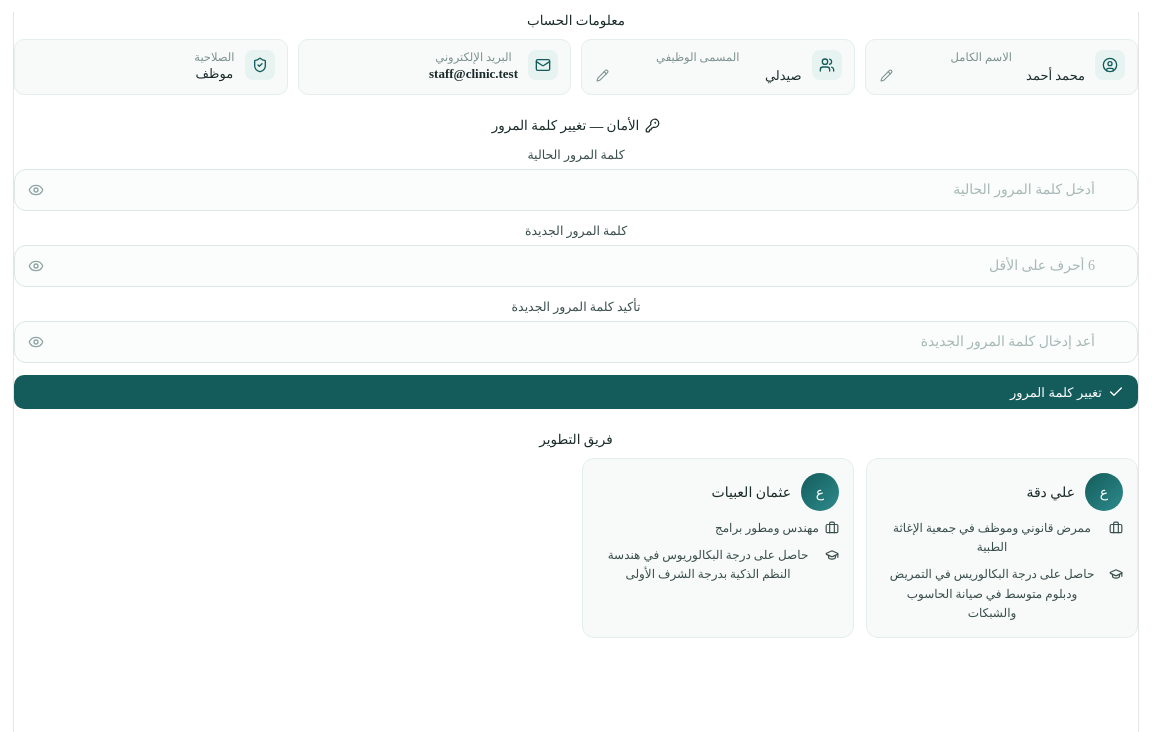
Scenario: ProfilePage — full name: edit affordance and independent edit state › saves the updated name and shows success feedback
Step 1. Click the button named "تعديل الاسم الكامل" → coordinates (886, 75), box [878, 66, 894, 84]
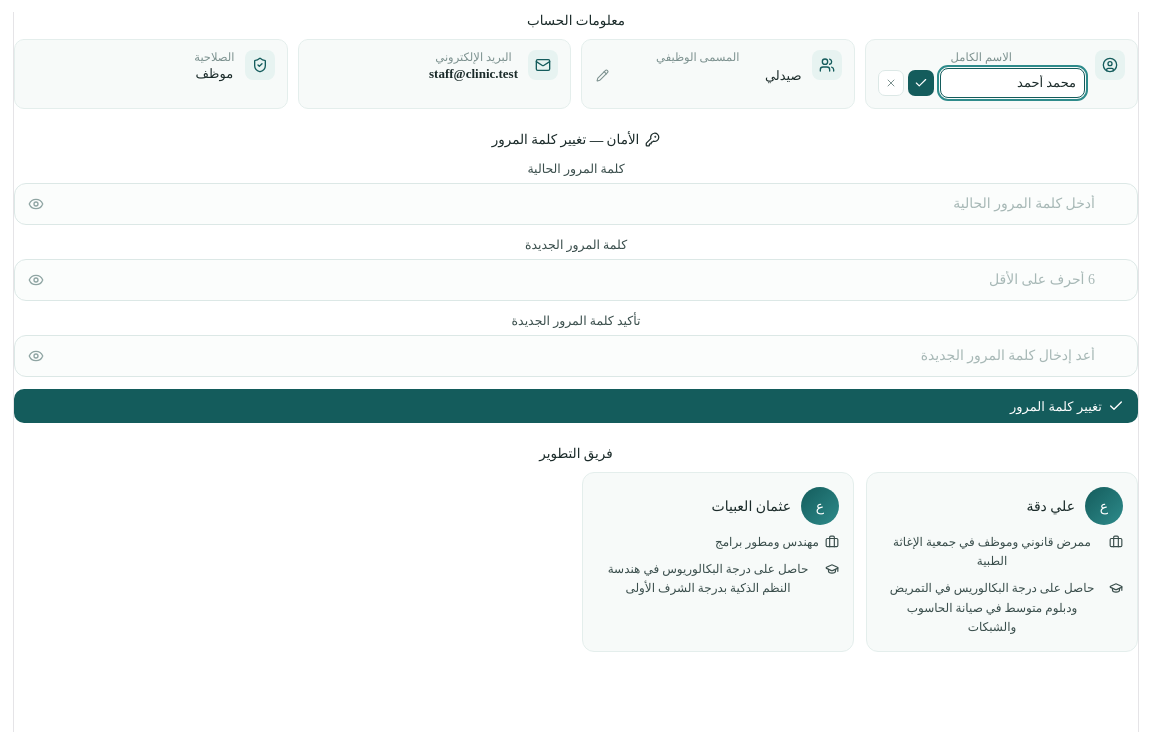
Step 2. Replace the text in the field named "الاسم الكامل" with "أحمد علي" → coordinates (1012, 83), box [940, 68, 1085, 98]
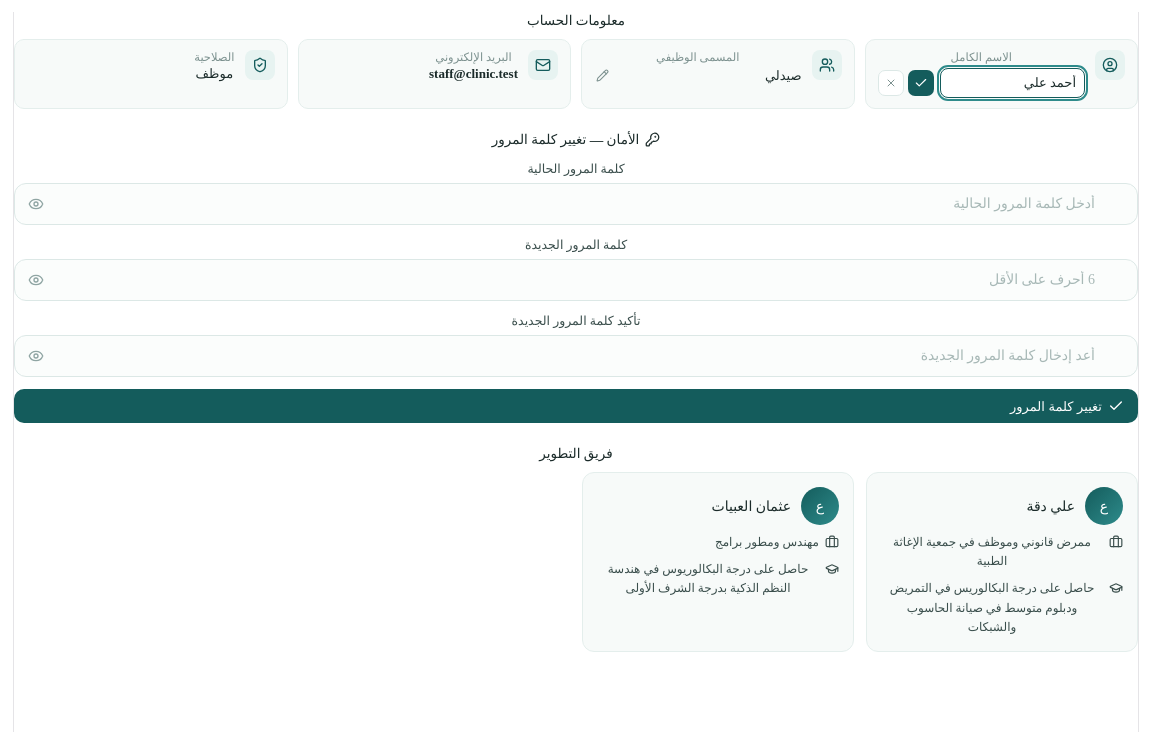
Step 3. Click the button named "حفظ الاسم الكامل" → coordinates (920, 83), box [908, 70, 934, 96]
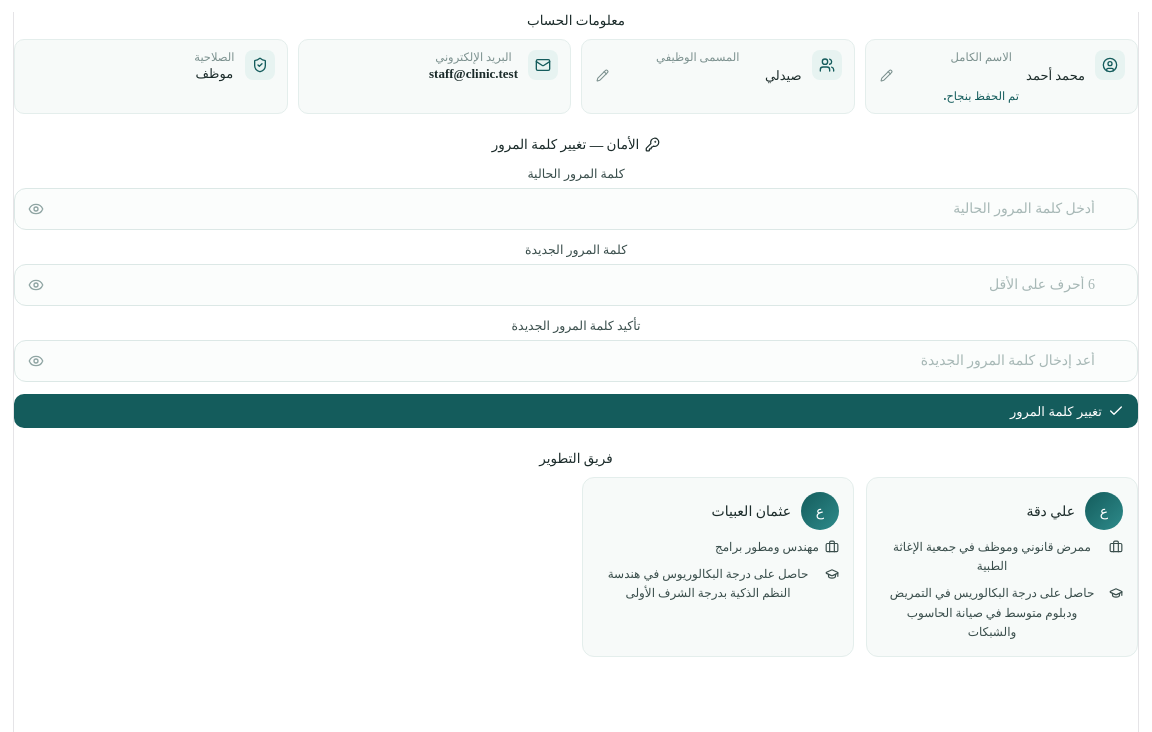
Result: the text "تم الحفظ بنجاح." is shown at [944, 90, 1019, 102]
